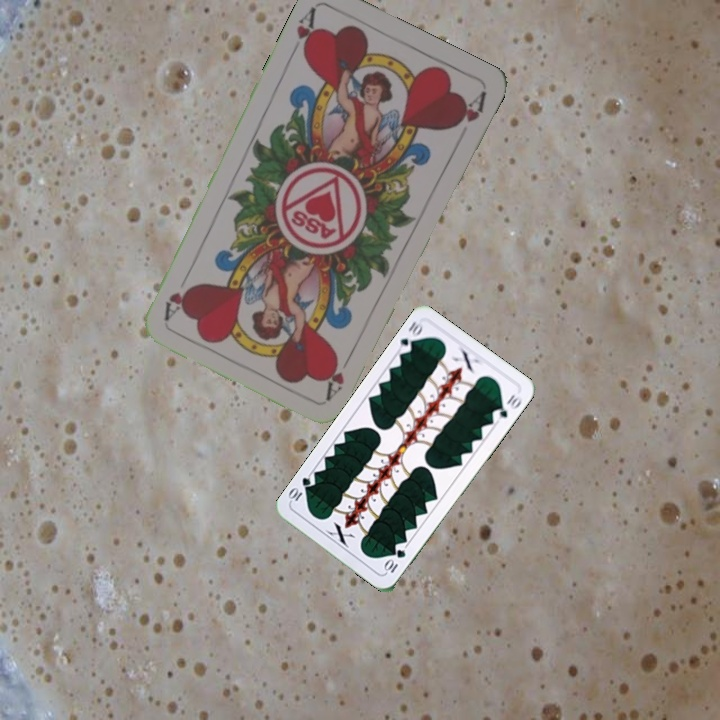G10: (396, 317, 425, 356), (380, 545, 408, 576)
HA: (322, 346, 356, 402), (292, 3, 321, 60)
